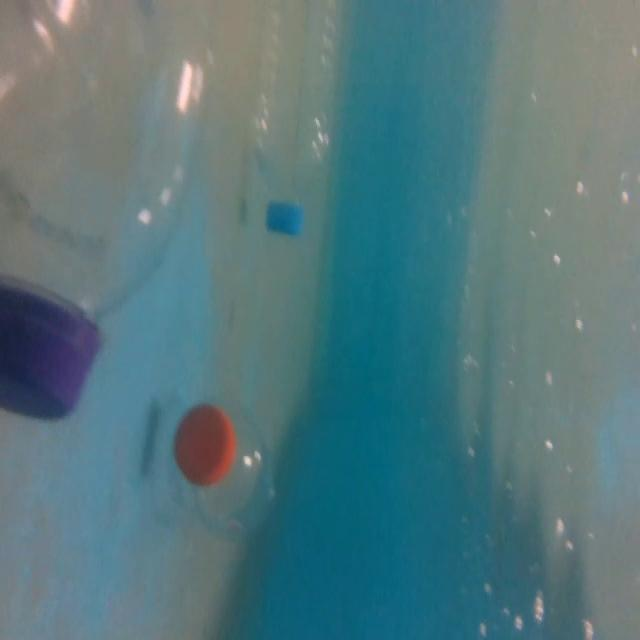plastic bottle: (2, 2, 211, 410), (244, 0, 349, 243), (148, 413, 297, 535)
